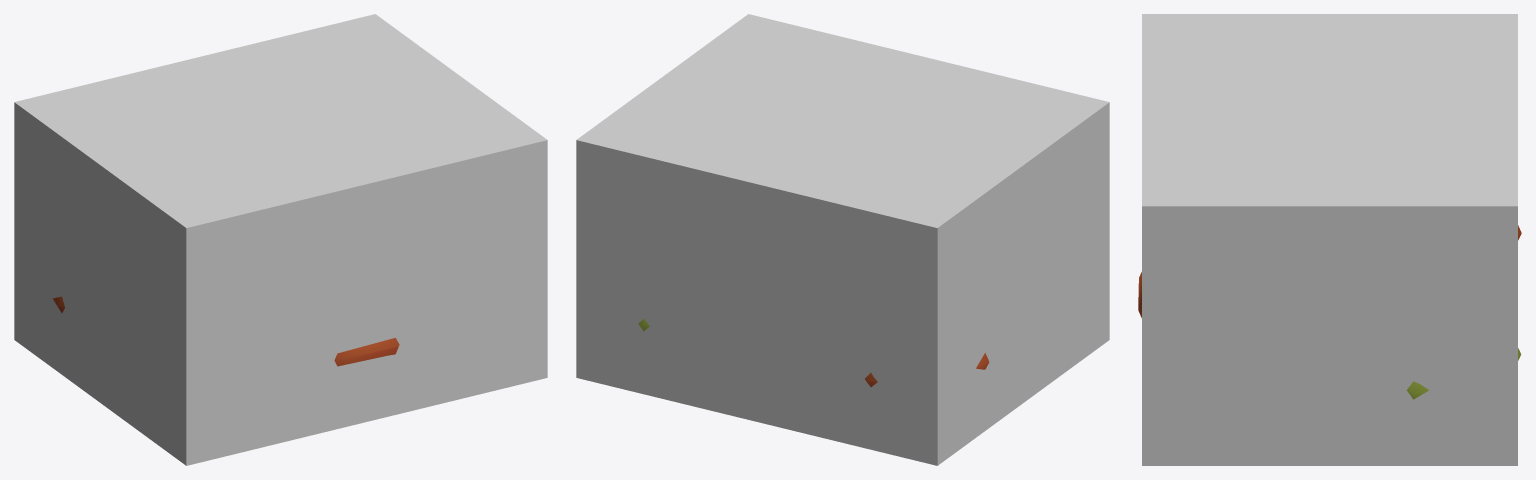
File: FMS_Crate_Basket_Fill_Apples.fbx
3 renders of one model, left to right at view 1: azimuth 30°, elevation 25°; view 2: azimuth 150°, elevation 25°; view 3: azimuth 270°, elevation 25°, orthographic. The views are drawn at different scales.
Parts seen in each view (by area): view 1: Basket_Fill_Apples_Col, Basket_Fill_Apples_LOD0; view 2: Basket_Fill_Apples_Col; view 3: Basket_Fill_Apples_Col, Basket_Fill_Apples_LOD0.
Boxes of the visible parts, x1,y1,x2,y2 form: Basket_Fill_Apples_Col: (14, 14, 547, 465); Basket_Fill_Apples_LOD0: (53, 296, 399, 366); Basket_Fill_Apples_Col: (576, 14, 1109, 465); Basket_Fill_Apples_Col: (1142, 14, 1517, 465); Basket_Fill_Apples_LOD0: (1138, 225, 1521, 399).
Size of what is drawn, in the model's own units: 19.47 by 12 by 16.07.
